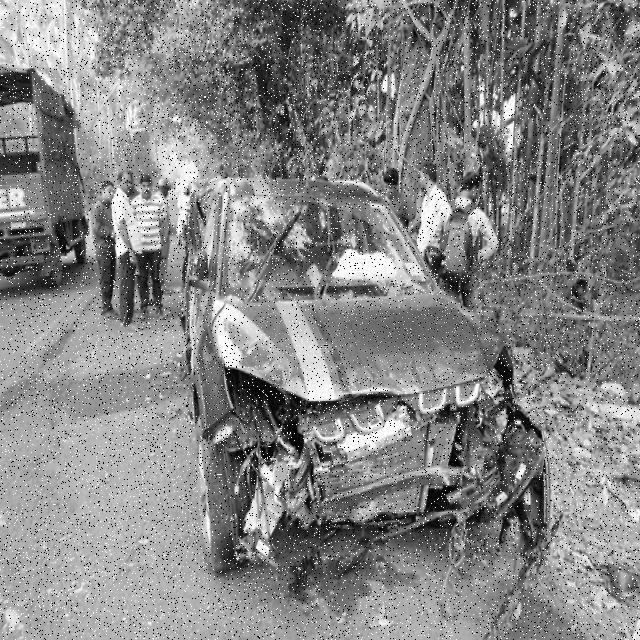front-bumper-dent: (203, 387, 543, 543)
